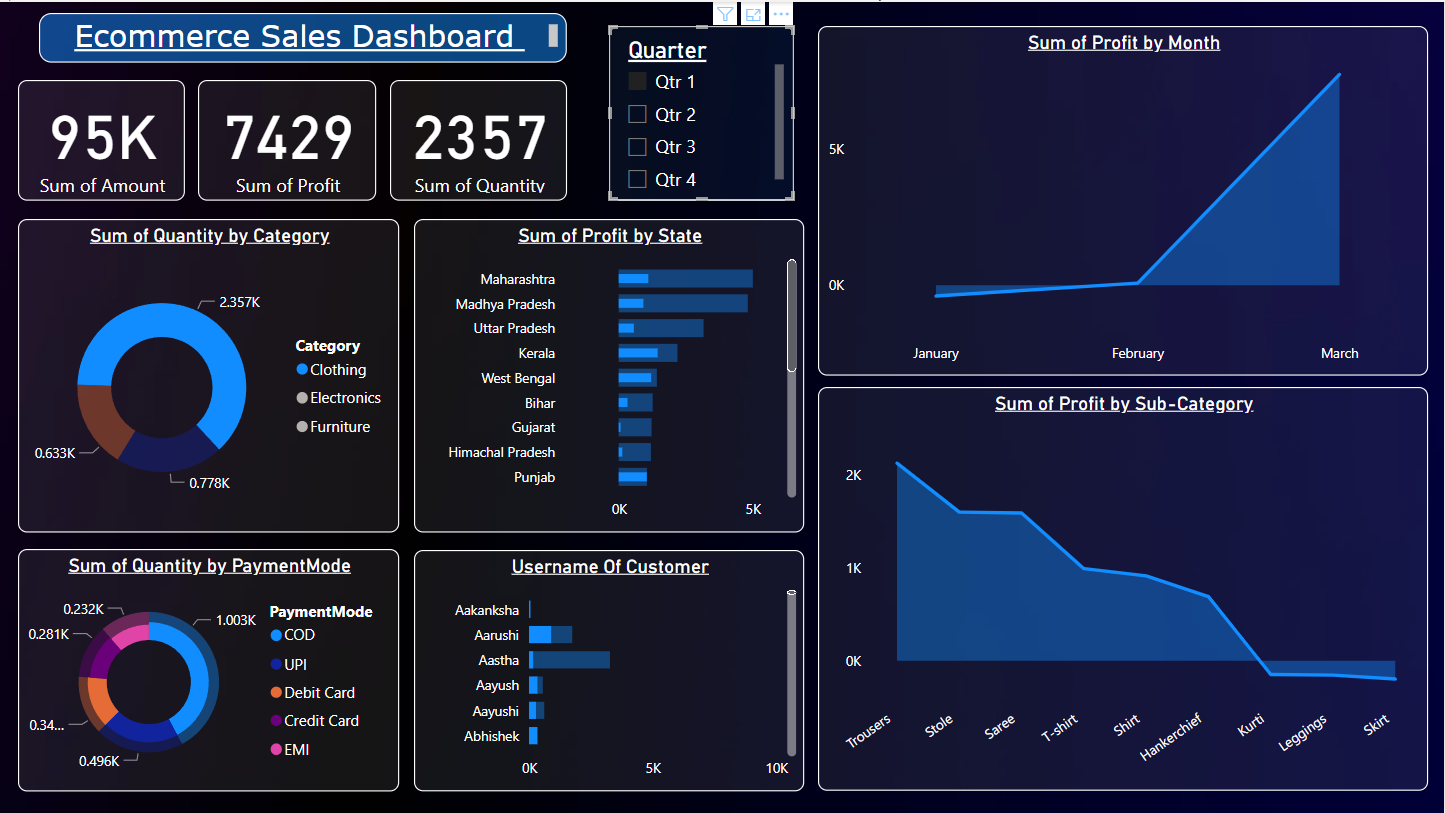

What the dashboard file says about the page in this screenshot:
{"tool":"powerbi","page":{"name":"Page 1","canvas":[1280,720],"ordinal":0},"visuals":[{"type":"areaChart","fields":{"Category":["Orders.Date  .Variation.Date Hierarchy.Month"],"Y":["Details.Profit"]},"box":[725,21,541,310],"z":0},{"type":"textbox","box":[35,10,468,44],"z":1000},{"type":"donutChart","fields":{"Category":["Details.Category"],"Y":["Details.Quantity"]},"box":[16,192,338,278],"z":2000},{"type":"donutChart","fields":{"Y":["Details.Quantity"],"Category":["Details.PaymentMode"]},"box":[16,485,338,215],"z":3000},{"type":"card","fields":{"Values":["Details.Amount"]},"box":[16,69,148,107],"z":4000},{"type":"card","fields":{"Values":["Details.Quantity"]},"box":[346,69,157,107],"z":5000},{"type":"card","fields":{"Values":["Details.Profit"]},"box":[176,69,158,107],"z":6000},{"type":"barChart","fields":{"Category":["Orders.State"],"Y":["Details.Profit"]},"box":[367,192,346,278],"z":7000},{"type":"barChart","title":"Username Of Customer","fields":{"Category":["Orders.Username"],"Y":["Details.Amount"]},"box":[367,486,346,214],"z":8000},{"type":"slicer","fields":{"Values":["Orders.Date  .Variation.Date Hierarchy.Quarter"]},"box":[540,21,164,155],"z":9000},{"type":"stackedAreaChart","fields":{"Category":["Details.Sub-Category"],"Y":["Details.Profit"]},"box":[725,341,541,358],"z":10000}]}

Visuals, with their boxes in screenshot pixels (x1, y1, x2, y2), scaled from the page's 1280x720 canvas onto the 1445x813 screenshot:
areaChart - Orders.Date  .Variation.Date Hierarchy.Month x Details.Profit: 818 24 1429 374
textbox: 40 11 568 61
donutChart - Details.Category x Details.Quantity: 18 217 400 531
donutChart - Details.Quantity x Details.PaymentMode: 18 548 400 790
card - Details.Amount: 18 78 185 199
card - Details.Quantity: 391 78 568 199
card - Details.Profit: 199 78 377 199
barChart - Orders.State x Details.Profit: 414 217 805 531
"Username Of Customer" barChart: 414 549 805 790
slicer - Orders.Date  .Variation.Date Hierarchy.Quarter: 610 24 795 199
stackedAreaChart - Details.Sub-Category x Details.Profit: 818 385 1429 789
